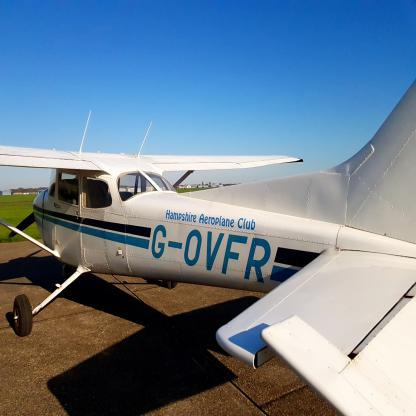CIV_Plane: (2, 76, 415, 409)
